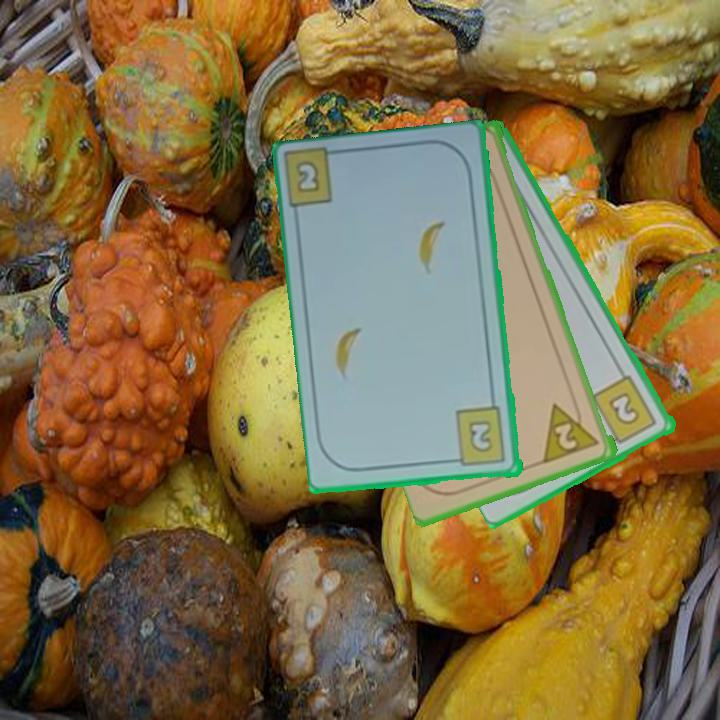2b: (589, 372, 660, 449), (448, 404, 509, 470), (292, 157, 323, 197)
2p: (540, 394, 603, 466)
